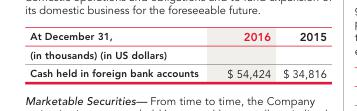table: (29, 29, 325, 80)
table column: (29, 29, 211, 80), (211, 29, 276, 80), (276, 29, 325, 80)
table column header: (29, 29, 325, 45)
table projected row header: (29, 45, 325, 63)
table row: (29, 45, 325, 63), (29, 63, 325, 80), (29, 29, 325, 45)
